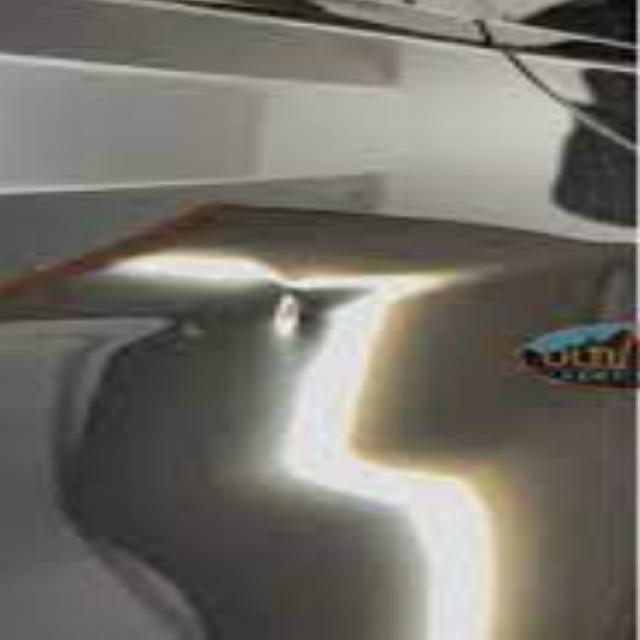dents: (214, 238, 398, 388)
